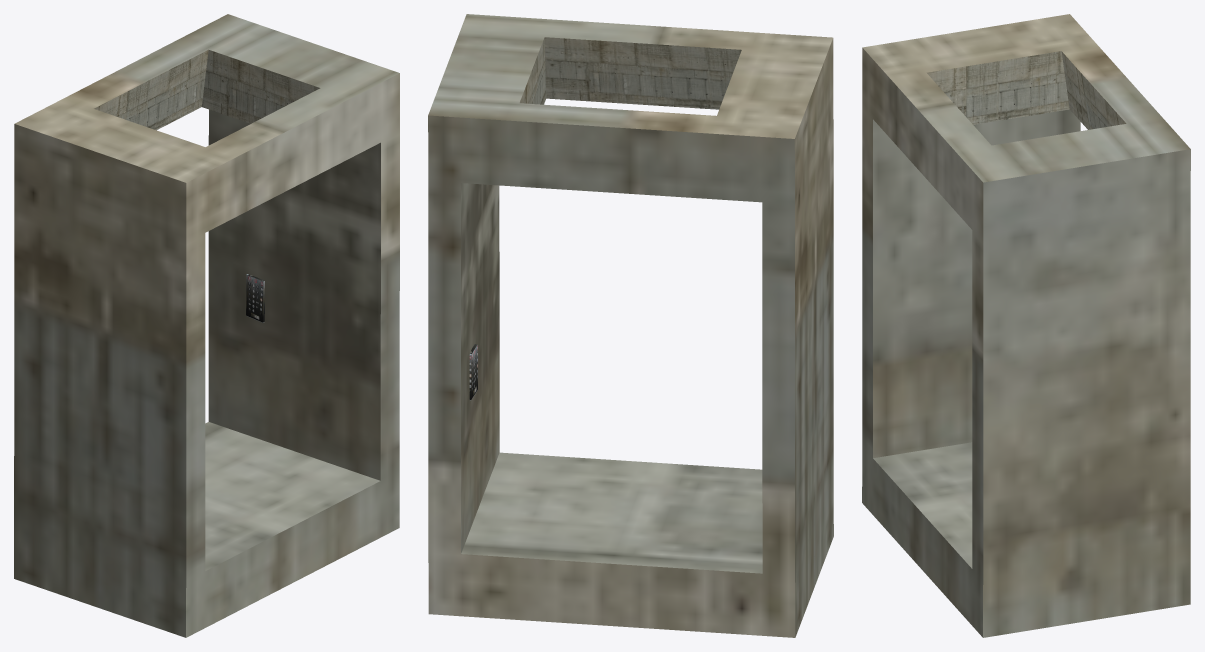
Rendered from SM_elevator02.fbx.
3 views of the same model, side by side, from view 1: azimuth 30°, elevation 25°; view 2: azimuth 150°, elevation 25°; view 3: azimuth 270°, elevation 25° (orthographic). The views are drawn at different scales.
Parts seen in each view (by area): view 1: SM_elevator02; view 2: SM_elevator02; view 3: SM_elevator02.
Boxes of the visible parts, box(x1,y1,x2,y2) form: SM_elevator02: box(14, 14, 399, 637); SM_elevator02: box(428, 14, 833, 637); SM_elevator02: box(862, 14, 1190, 637).
Size of the model in its own units: 518 by 658 by 429.
